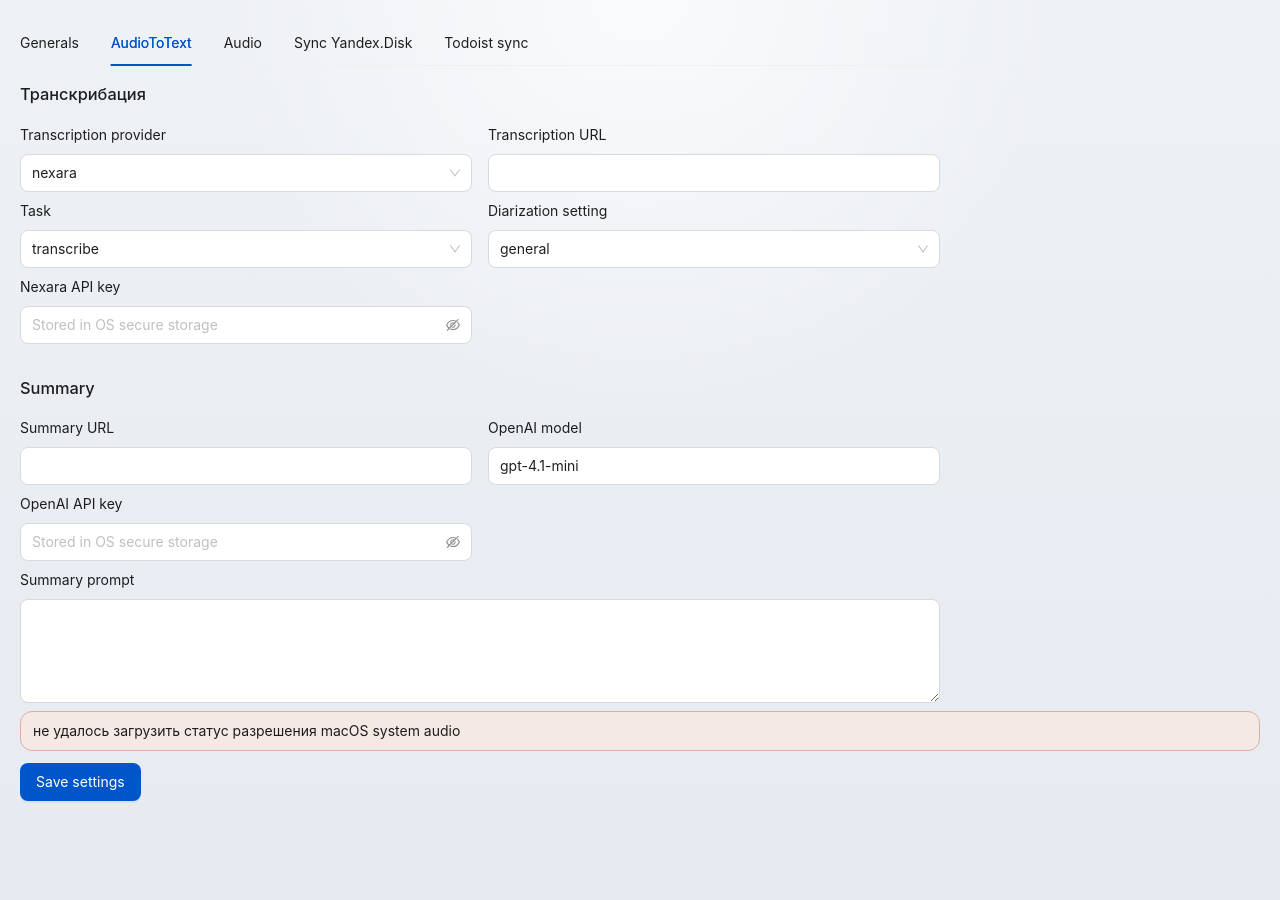
Test: App settings window › shows native macOS permission UI when permission lookup fails
The image size is (1280, 900).
Click the tab "Audio".
click(243, 43)  # box [224,32,262,54]
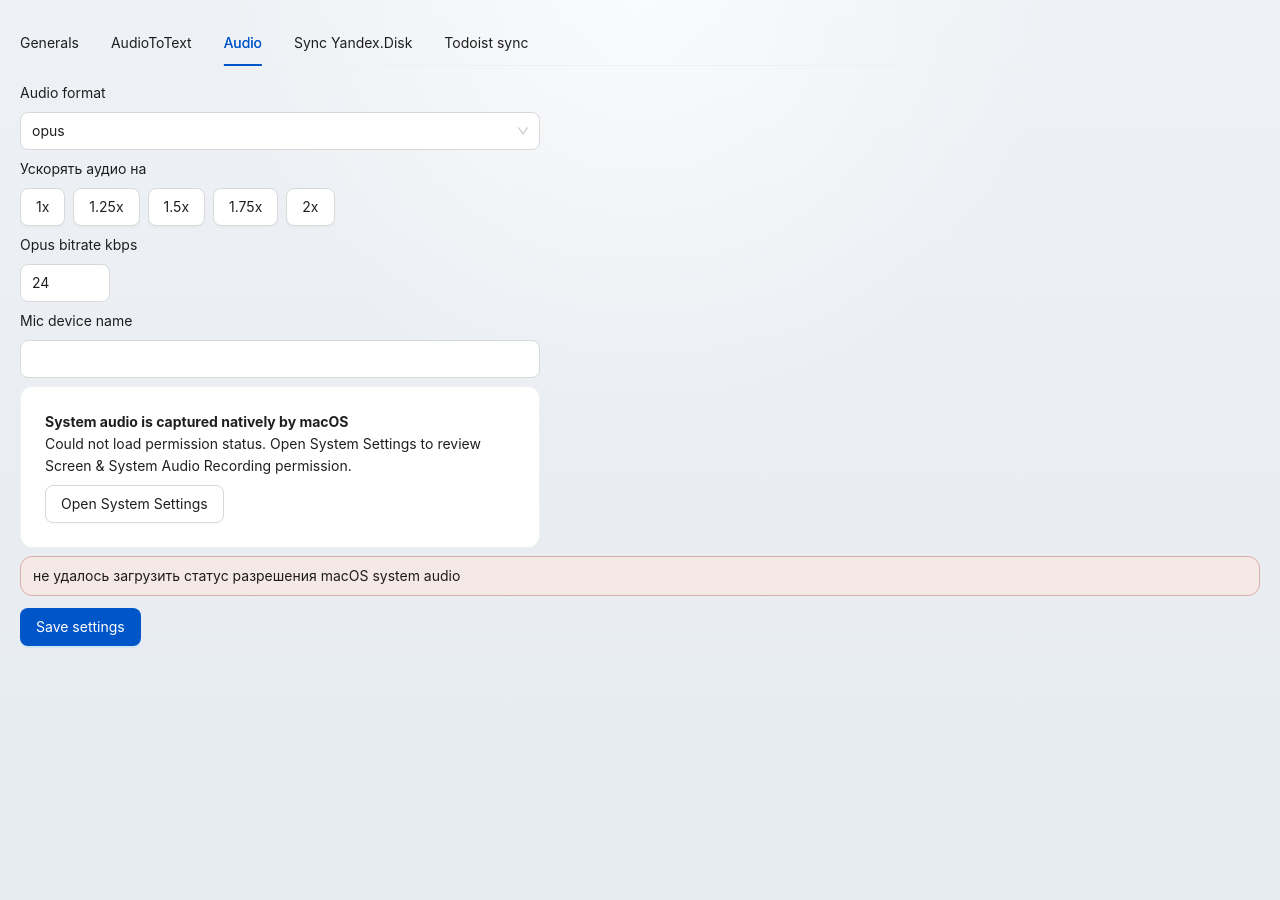
Expected: the text "Could not load permission status" is shown, [45,435,481,474]
Expected: the button "Open System Settings" is shown, [45,485,224,523]
